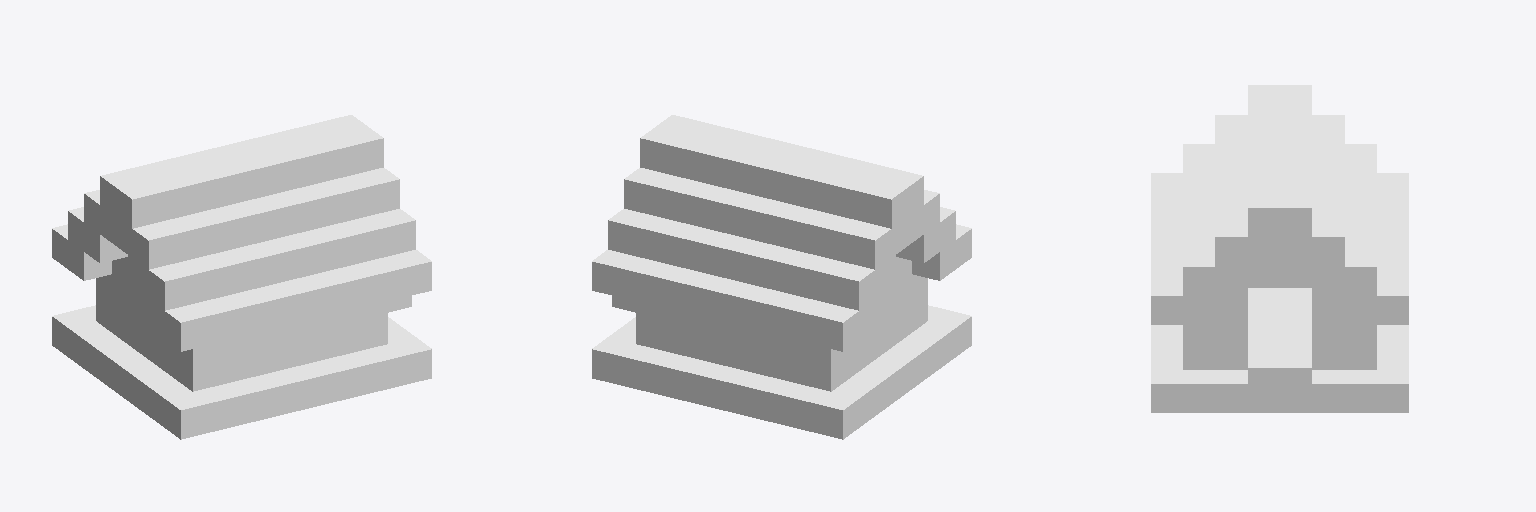
Rendered from glue_minihouse.obj.
3 renders of one model, left to right at view 1: azimuth 30°, elevation 25°; view 2: azimuth 150°, elevation 25°; view 3: azimuth 270°, elevation 25°, orthographic.
Parts seen in each view (by area): view 1: object 1; view 2: object 1; view 3: object 1.
Boxes of the visible parts, box(x1,y1,x2,y2) form: object 1: box(52, 115, 431, 439); object 1: box(592, 115, 971, 439); object 1: box(1151, 85, 1408, 412).
Size of the model in its own units: 1 by 0.7 by 0.8.